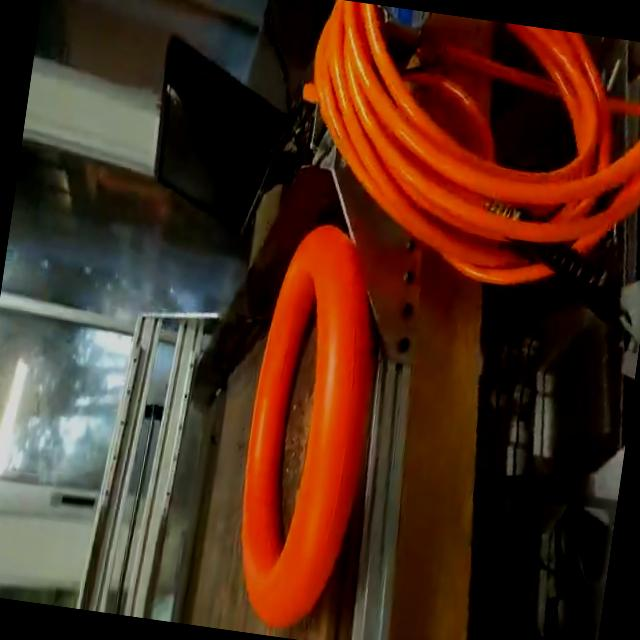note: (222, 222, 394, 637)
